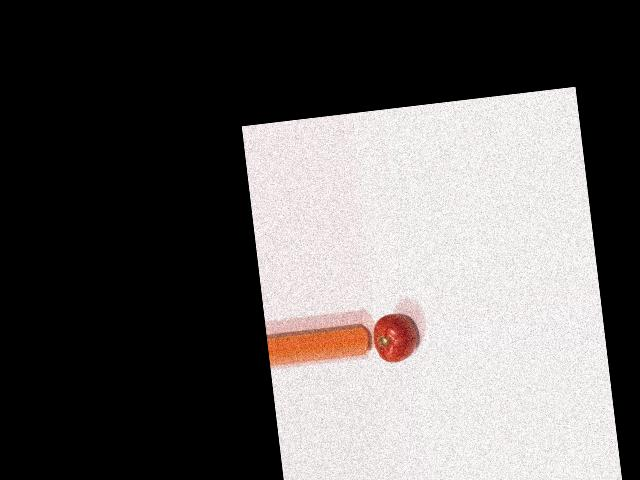tomato: (371, 312, 419, 364)
